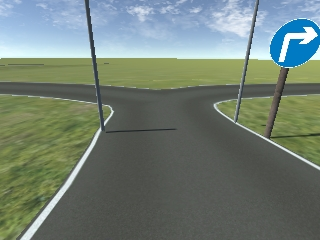right: (270, 19, 320, 67)
